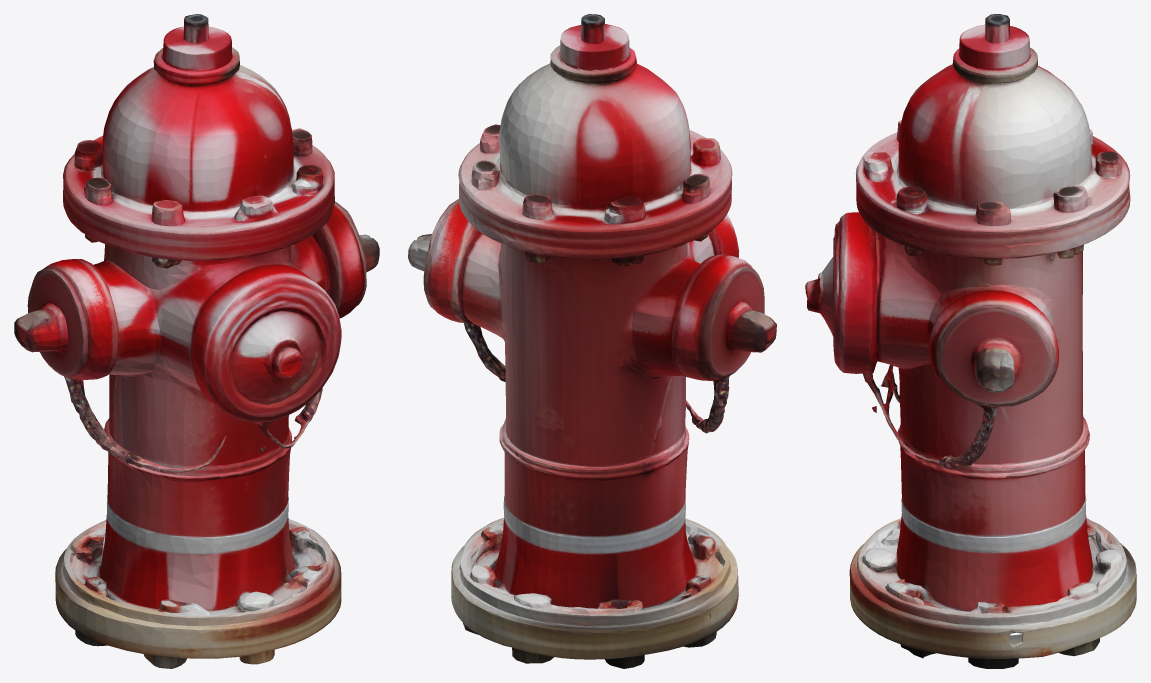
Rendered from fire_hydrant_563008_20251230_114250_20251230_115505.glb.
The picture shows the model from 3 angles, left to right: view 1: azimuth 30°, elevation 25°; view 2: azimuth 150°, elevation 25°; view 3: azimuth 270°, elevation 25°; orthographic projection.
Parts seen in each view (by area): view 1: world; view 2: world; view 3: world.
Part boxes in pixels (left/top/right/bottom): world: left=14, top=14, right=379, bottom=668; world: left=408, top=14, right=776, bottom=668; world: left=805, top=14, right=1136, bottom=668.
Size of the model in its own units: 0.6227 by 1 by 0.5065.
1 material, 1 textured.
